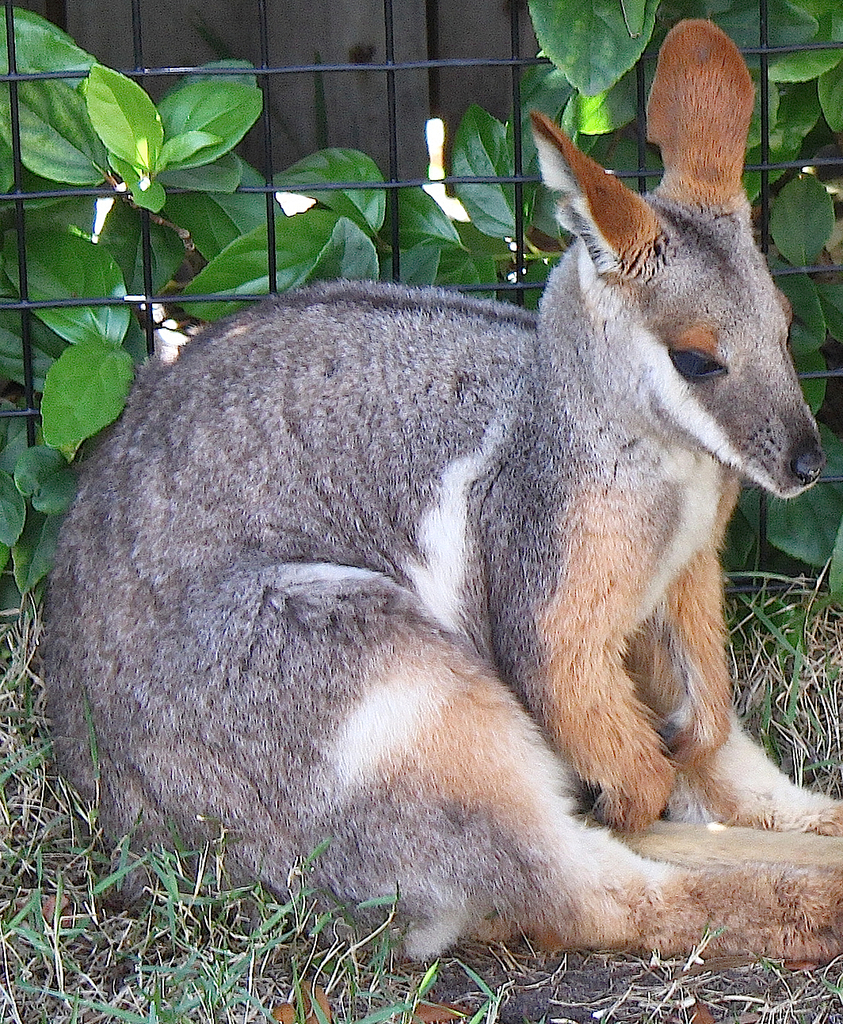kangaroo: (45, 17, 842, 964)
